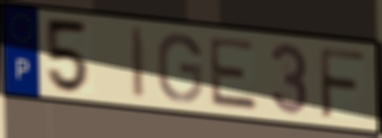3: (267, 41, 310, 119)
5: (44, 15, 95, 96)
E: (206, 34, 261, 113)
F: (317, 45, 368, 123)
G: (155, 31, 205, 105)
I: (128, 25, 148, 103)
